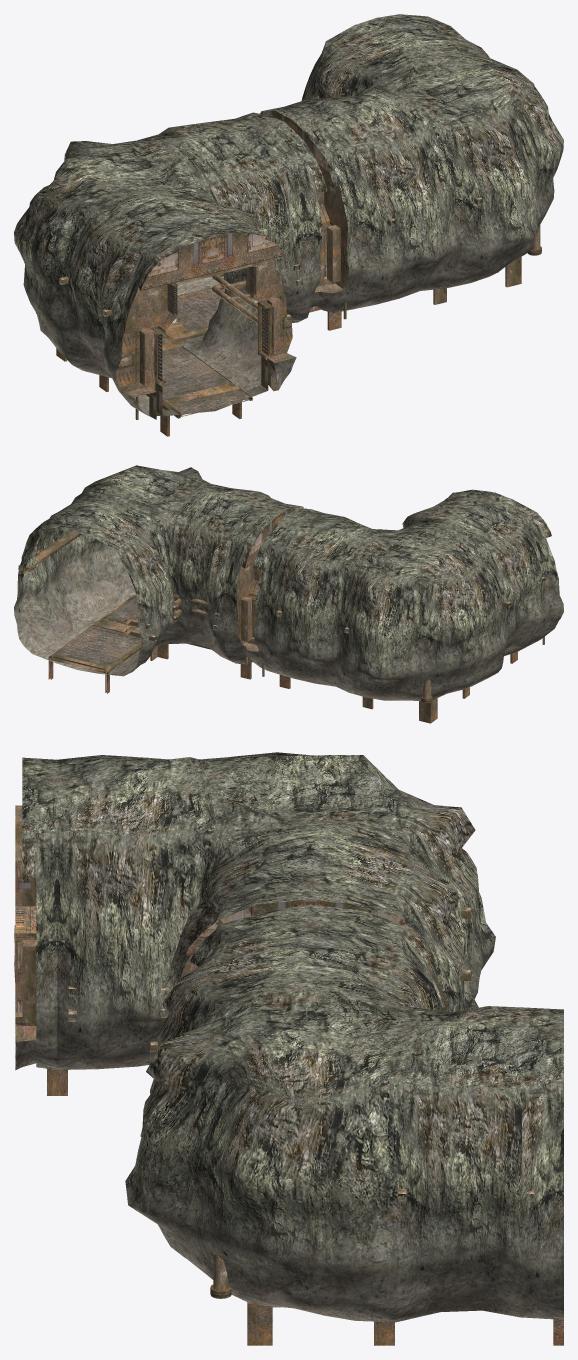
The model's file is poi_all_bunker_mad_bio_s01_r19_hall6_mesh_r19.fbx.
3 renders of one model, top to bottom at view 1: azimuth 30°, elevation 25°; view 2: azimuth 150°, elevation 25°; view 3: azimuth 270°, elevation 25°, orthographic. The views are drawn at different scales.
Visible parts, largest first — view 1: mesh_node; view 2: mesh_node; view 3: mesh_node.
Part boxes in pixels (left/top/right/bottom): mesh_node: left=14, top=14, right=563, bottom=436; mesh_node: left=14, top=465, right=563, bottom=723; mesh_node: left=14, top=752, right=563, bottom=1345.
Bounding box in the file's own units: 21.31 × 7.73 × 13.03.
